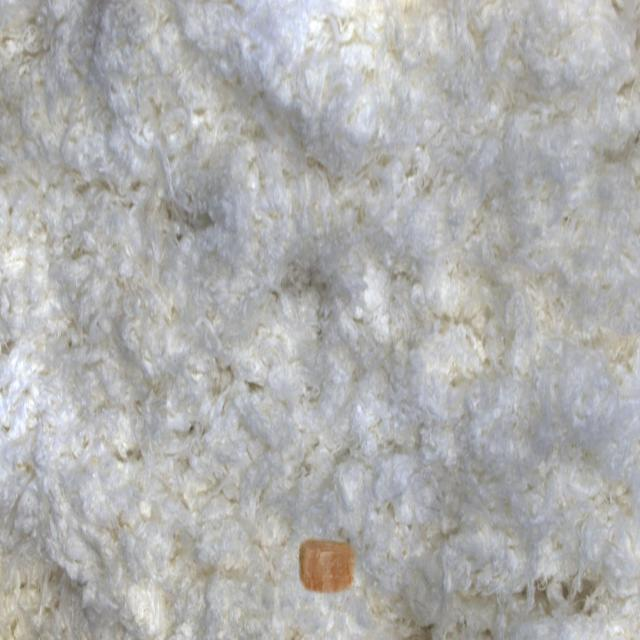dust: (256, 484, 392, 632)
